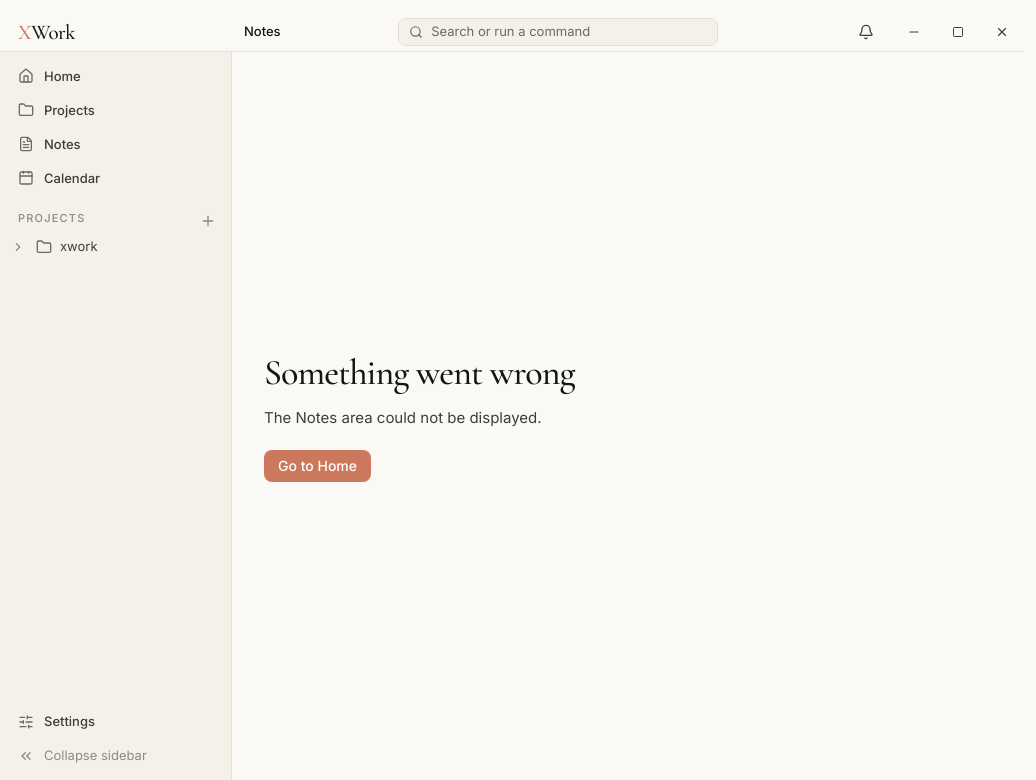
AppErrorBoundary › recovers to Home
Click the button "Go to Home": {"x": 318, "y": 466} [264,450,371,482]
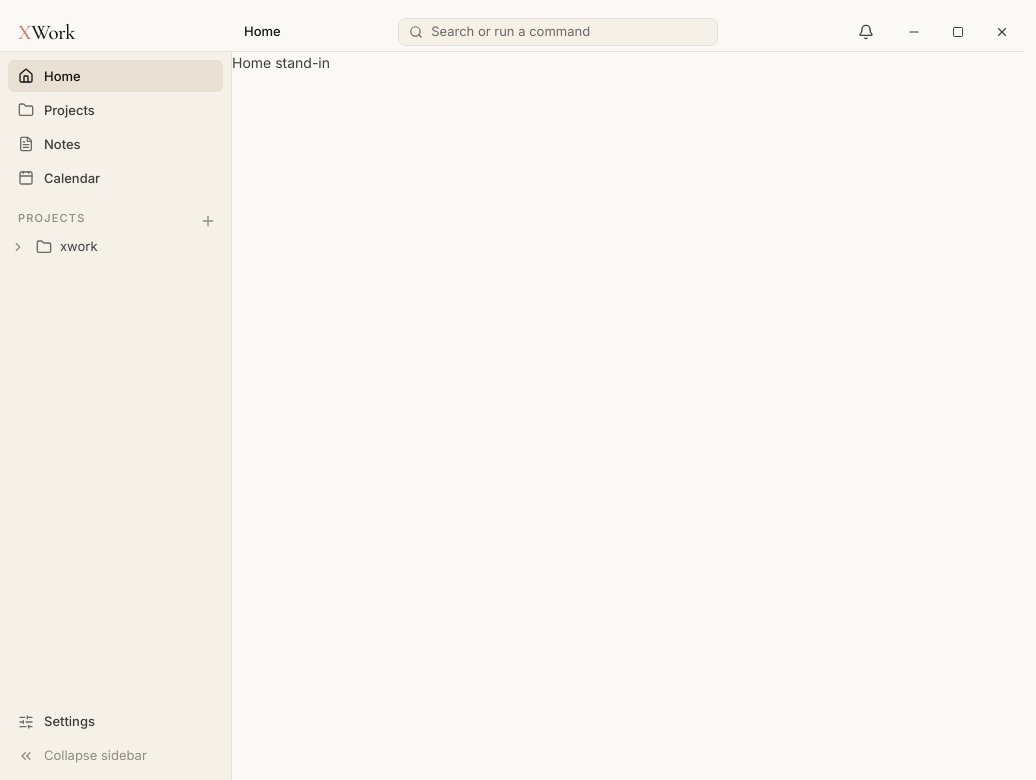
Now the text "Home stand-in" is shown, box [232,54,330,71]
